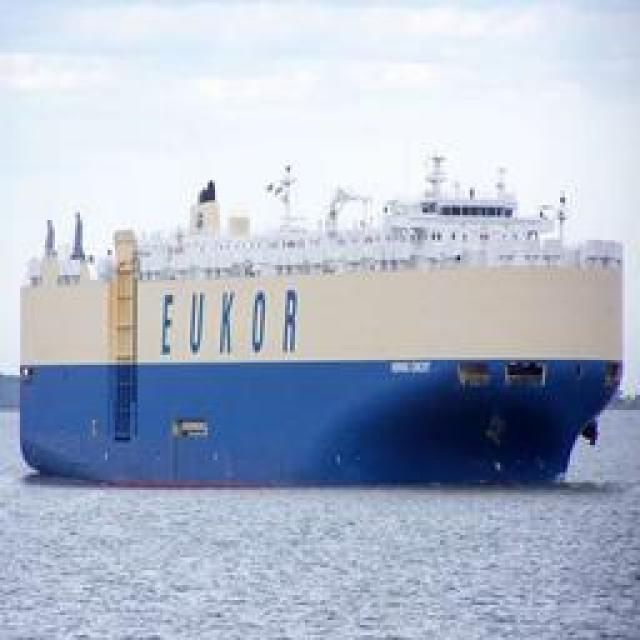ship2: (18, 156, 625, 492)
